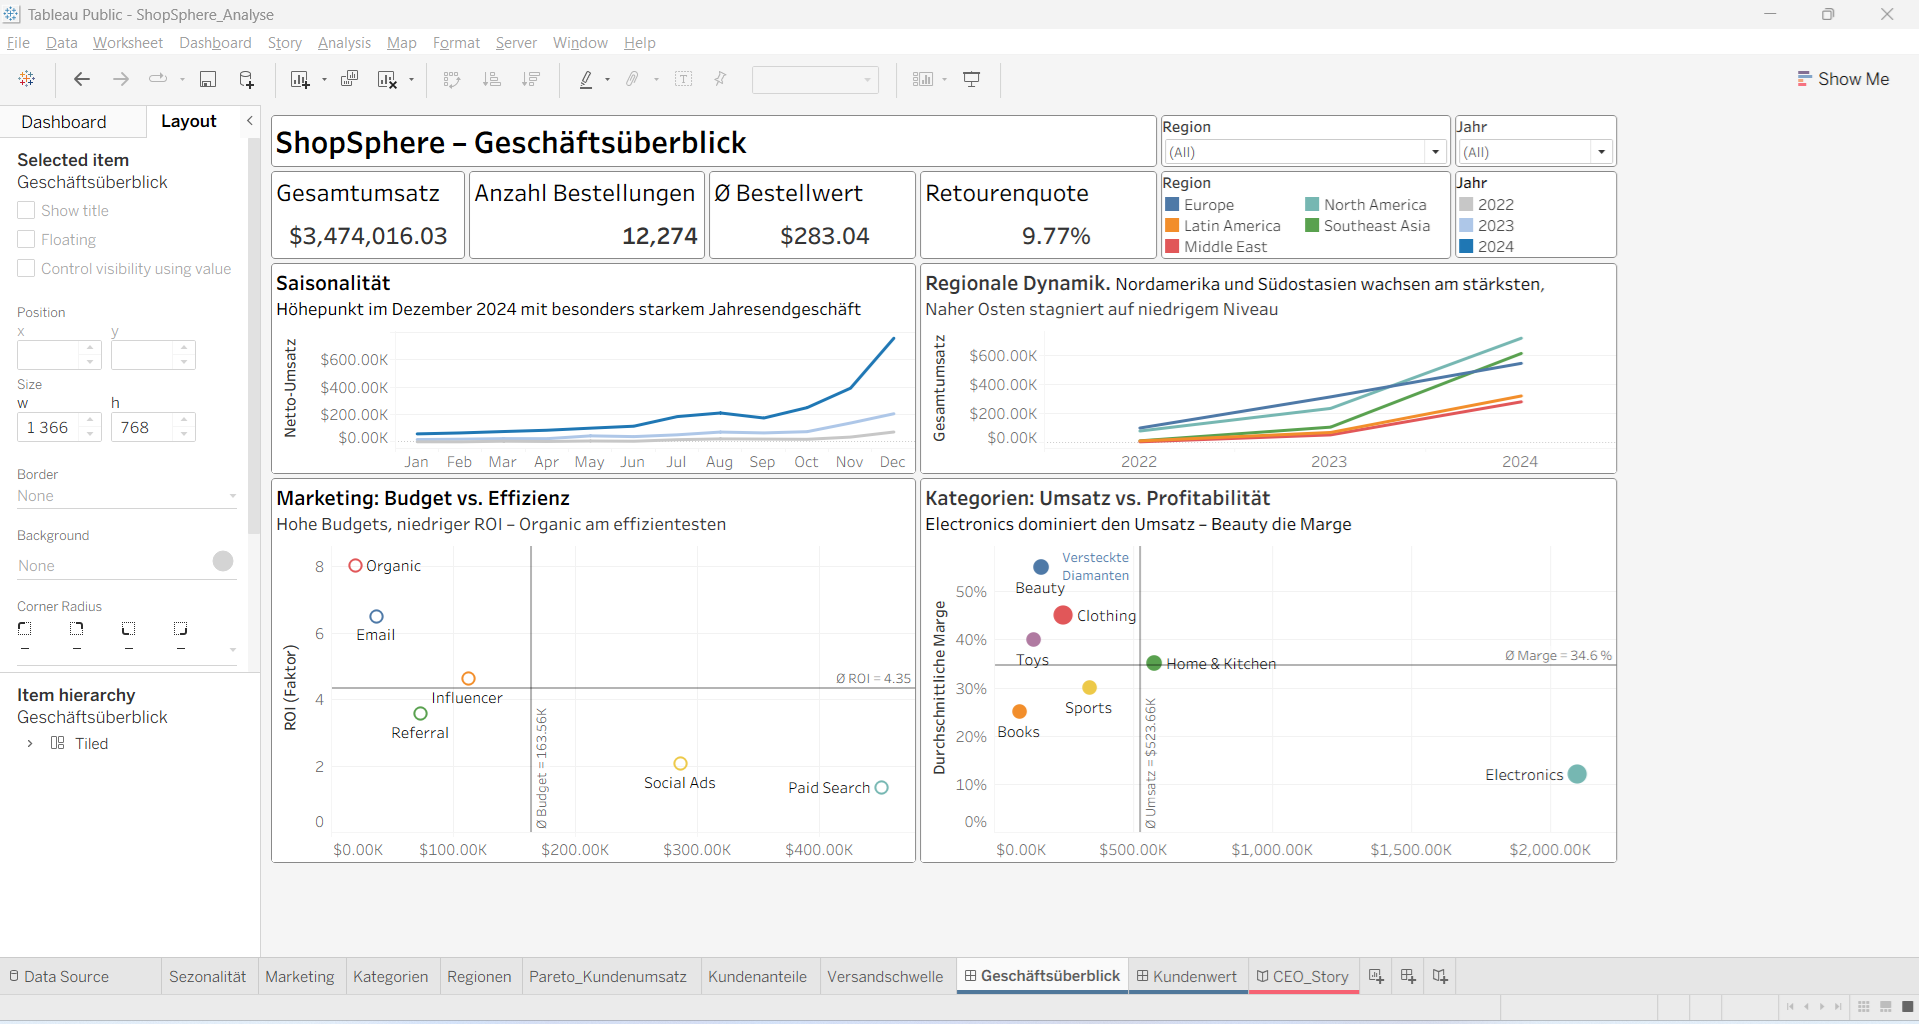

What the dashboard file says about the page in this screenshot:
{"tool":"tableau","page":{"name":"Geschäftsüberblick","canvas":[1366,768],"ordinal":0},"visuals":[{"type":"text","box":[8,8,890,56]},{"type":"filter","title":"Regionen","param":"[federated.1g0chgs1h25pfb14zny0c0hhzowp].[none:region:nk]","box":[898,8,294,56]},{"type":"filter","title":"Sezonalität","param":"[federated.1771beu1rz5j4s195cevu06qixh3].[none:order_year:ok]","box":[1192,8,166,56]},{"type":"worksheet","title":"KPI_Umsatz","mark":"Automatic","box":[8,64,198,92]},{"type":"worksheet","title":"KPI_Bestellungen","mark":"Automatic","box":[206,64,240.5,92]},{"type":"worksheet","title":"KPI_Bestellwert","mark":"Automatic","box":[446.5,64,211,92]},{"type":"worksheet","title":"KPI_Retourenquote","mark":"Automatic","box":[657.5,64,240.5,92]},{"type":"legend","title":"Regionen","param":"[federated.1g0chgs1h25pfb14zny0c0hhzowp].[none:region:nk]","box":[898,64,294,92]},{"type":"legend","title":"Sezonalität","param":"[federated.1771beu1rz5j4s195cevu06qixh3].[none:order_year:ok]","box":[1192,64,166,91]},{"type":"worksheet","title":"Sezonalität","mark":"Line","rows":["net_amount"],"cols":["order_date"],"box":[8,156,649,215]},{"type":"worksheet","title":"Regionen","mark":"Line","rows":["total_spent"],"cols":["order_year"],"box":[657,156,701,215]},{"type":"worksheet","title":"Marketing","mark":"Automatic","rows":["roi"],"cols":["total_budget"],"box":[8,371,649,389]},{"type":"worksheet","title":"Kategorien","mark":"Circle","rows":["avg_margin_pct"],"cols":["total_revenue"],"box":[657,371,701,389]}]}

Visuals, with their boxes on the page's 1366x768 design canvas (x1, y1, x2, y2). These are canvas units, not pixel positions in the 1919x1024 screenshot, which may show the page scaled, cropped or inside an application window:
text: rect(8, 8, 898, 64)
"Regionen" filter: rect(898, 8, 1192, 64)
"Sezonalität" filter: rect(1192, 8, 1358, 64)
"KPI_Umsatz" worksheet: rect(8, 64, 206, 156)
"KPI_Bestellungen" worksheet: rect(206, 64, 446, 156)
"KPI_Bestellwert" worksheet: rect(446, 64, 658, 156)
"KPI_Retourenquote" worksheet: rect(658, 64, 898, 156)
"Regionen" legend: rect(898, 64, 1192, 156)
"Sezonalität" legend: rect(1192, 64, 1358, 155)
"Sezonalität" worksheet (Line marks): rect(8, 156, 657, 371)
"Regionen" worksheet (Line marks): rect(657, 156, 1358, 371)
"Marketing" worksheet: rect(8, 371, 657, 760)
"Kategorien" worksheet (Circle marks): rect(657, 371, 1358, 760)
